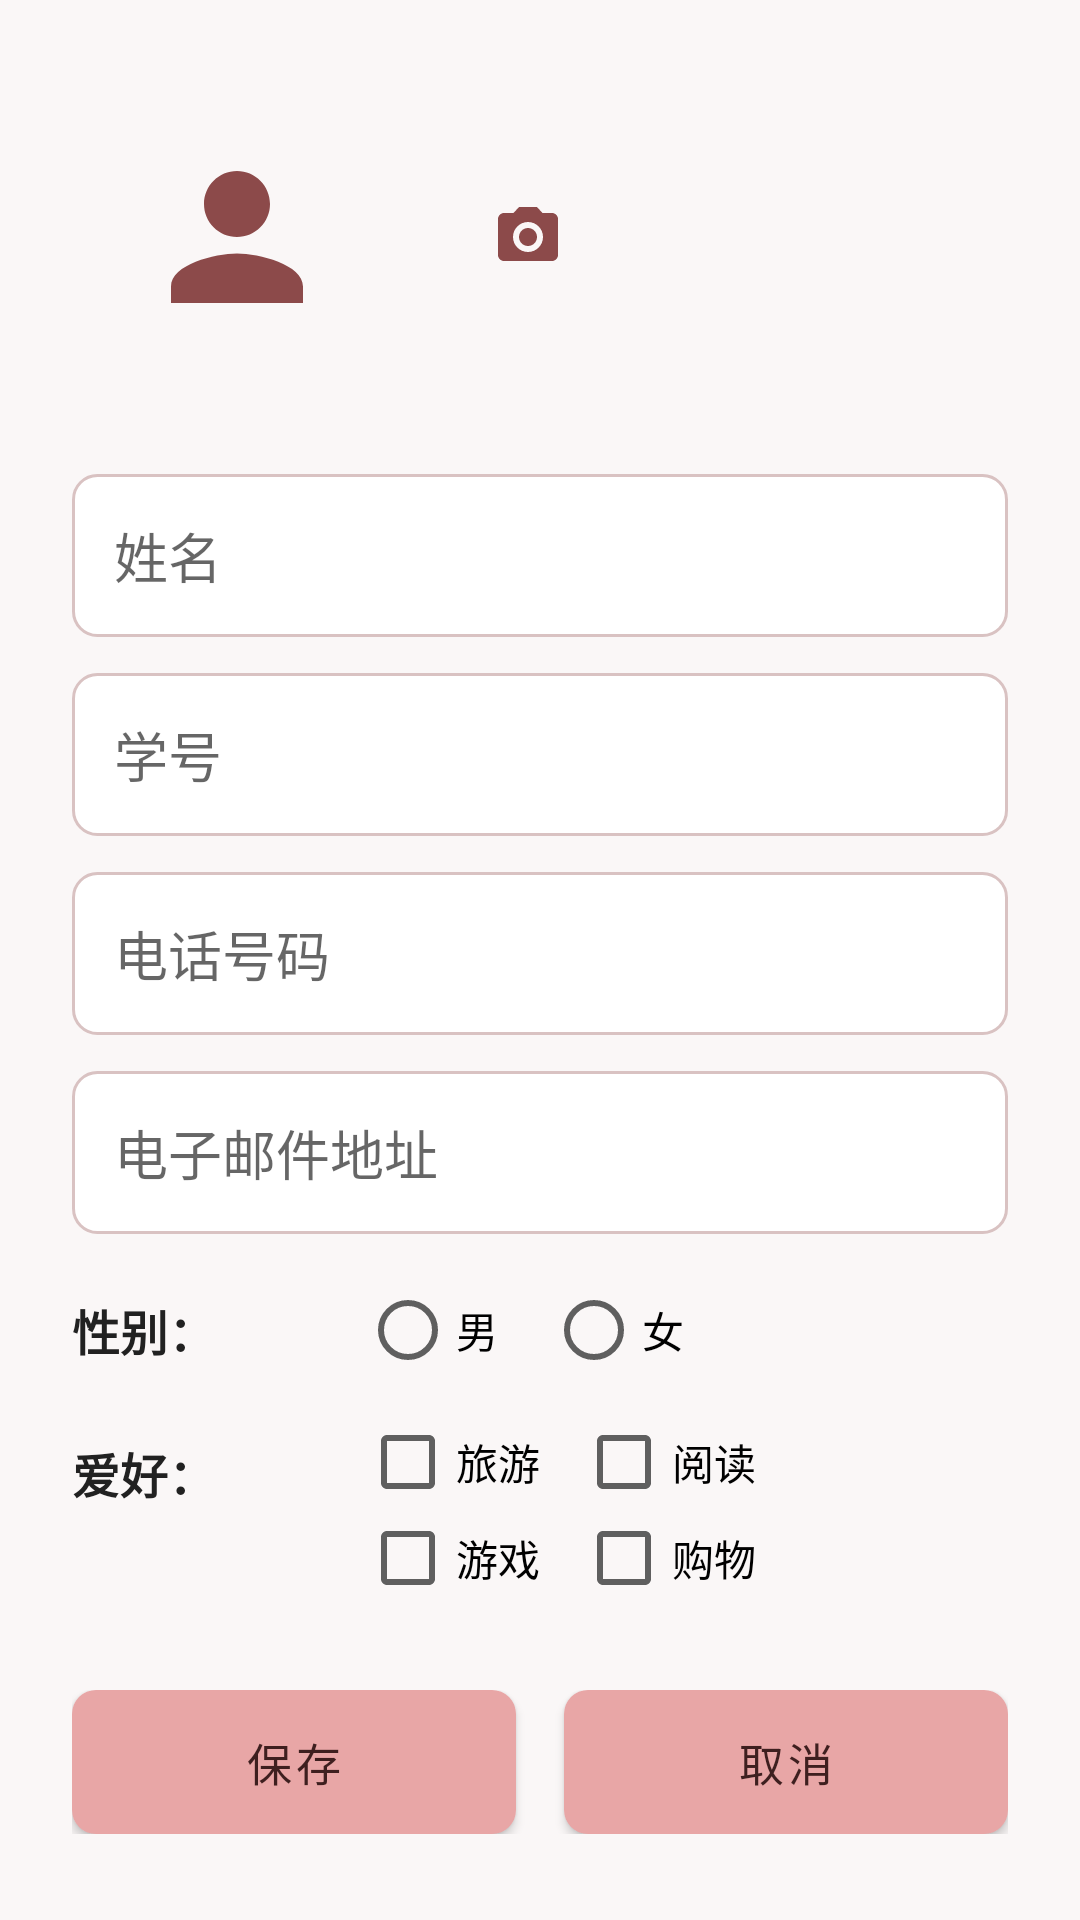

Locate icon controls on the screen. Image size 1080 x 1920, boxes as bbox=[x1, y1, x2, y2].
头像: bbox=[171, 171, 303, 303]
拍照: bbox=[498, 207, 558, 261]
